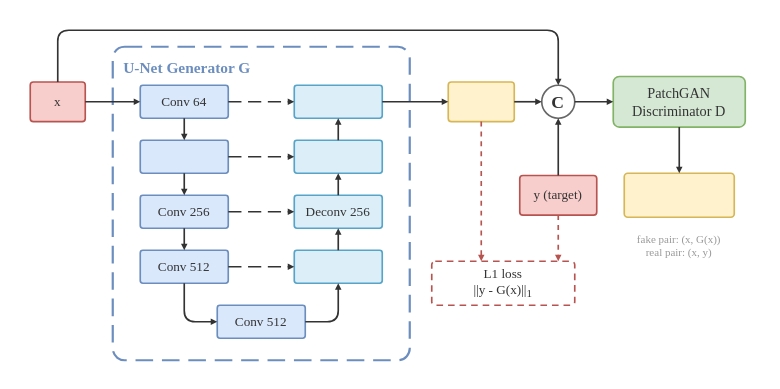
Some shapes in this 780 by 389 pixel diagram are drawn without their labels. The centre of each missing label's shape, as x and y in pixels:
"Conv 128" belongs at point 184,156.
"Deconv 128" belongs at point 338,156.
"Deconv 512" belongs at point 338,266.
"Deconv 64" belongs at point 338,101.
"G(x)" belongs at point 481,101.
"N x N patch real / fake" belongs at point 679,195.
